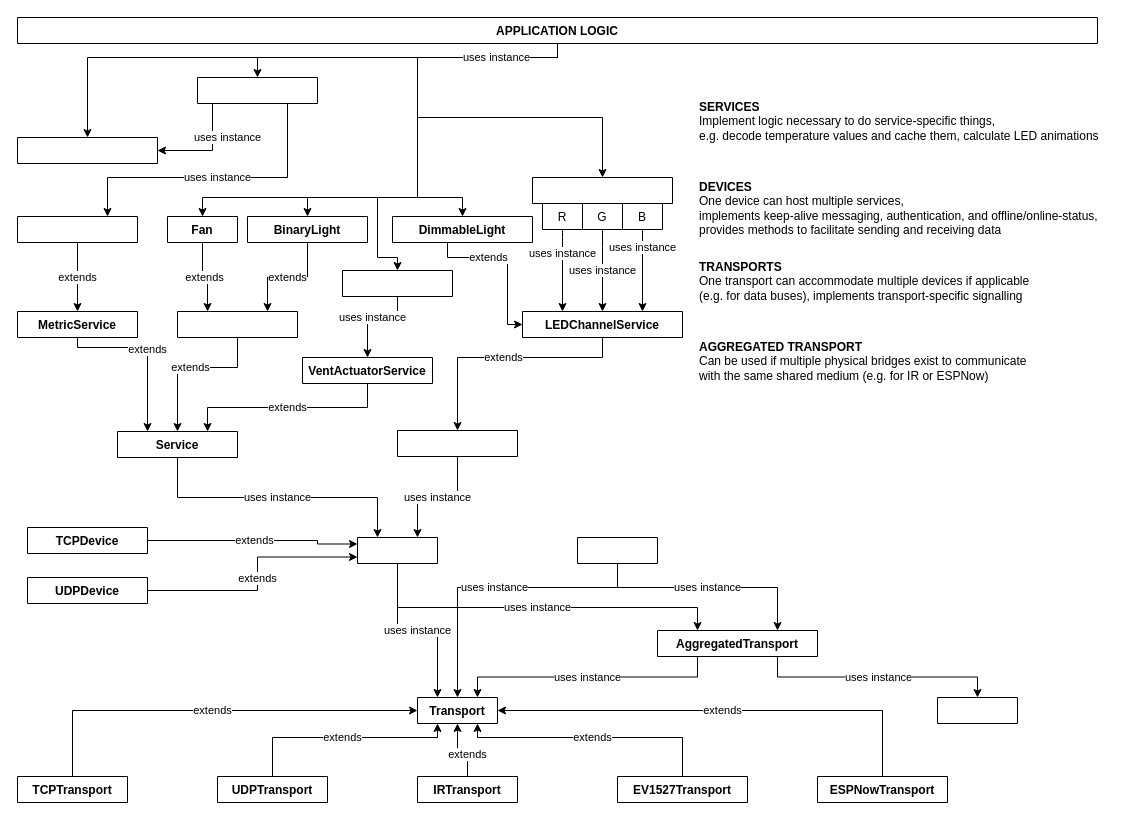
Image size: 1125x820. Some labels were removed from this diagram. The shapes that lost their labels are listed below. From the top down, each one's centre as x and y in pixels, then its label:
At [257,90]: "MetricAggregate".
At [87,150]: "TemperatureMetric…".
At [602,190]: "ColorLight".
At [77,229]: "TemperatureMetric".
At [397,283]: "AirHandler".
At [237,324]: "RelayService".
At [457,443]: "Service…".
At [397,550]: "Device".
At [617,550]: "Device…".
At [977,710]: "Transport…".
